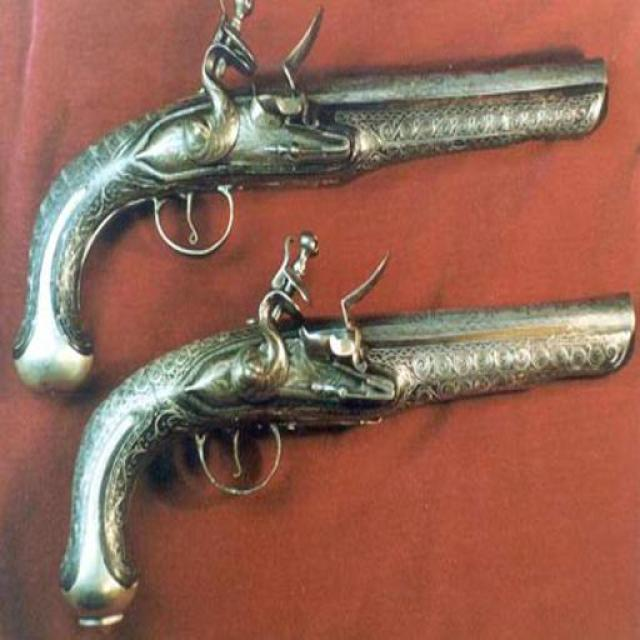pistol: (56, 186, 636, 625), (13, 4, 608, 394)
